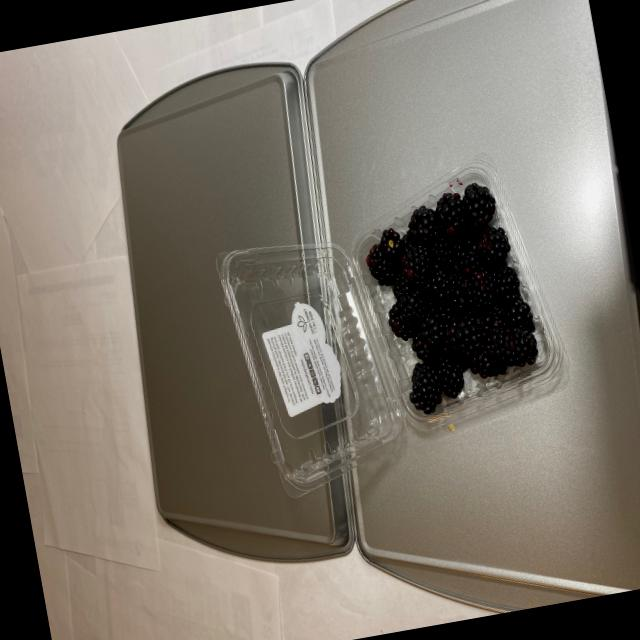blackberries: (350, 178, 534, 436)
